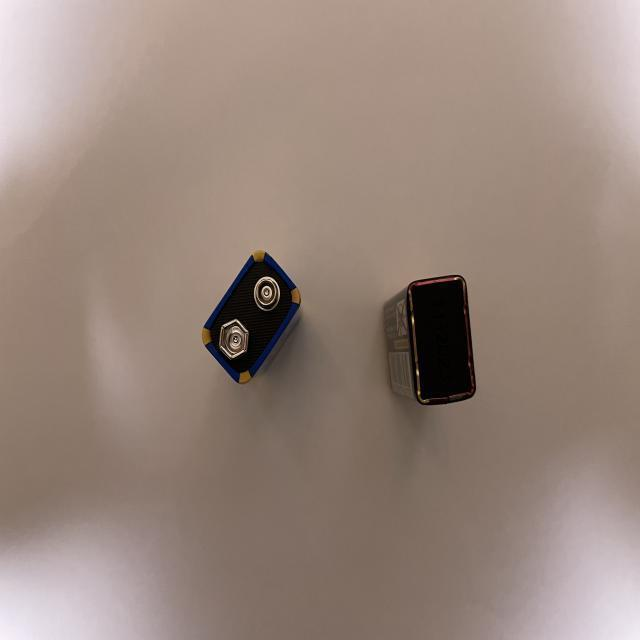9V: (200, 244, 303, 390), (382, 273, 476, 407)
